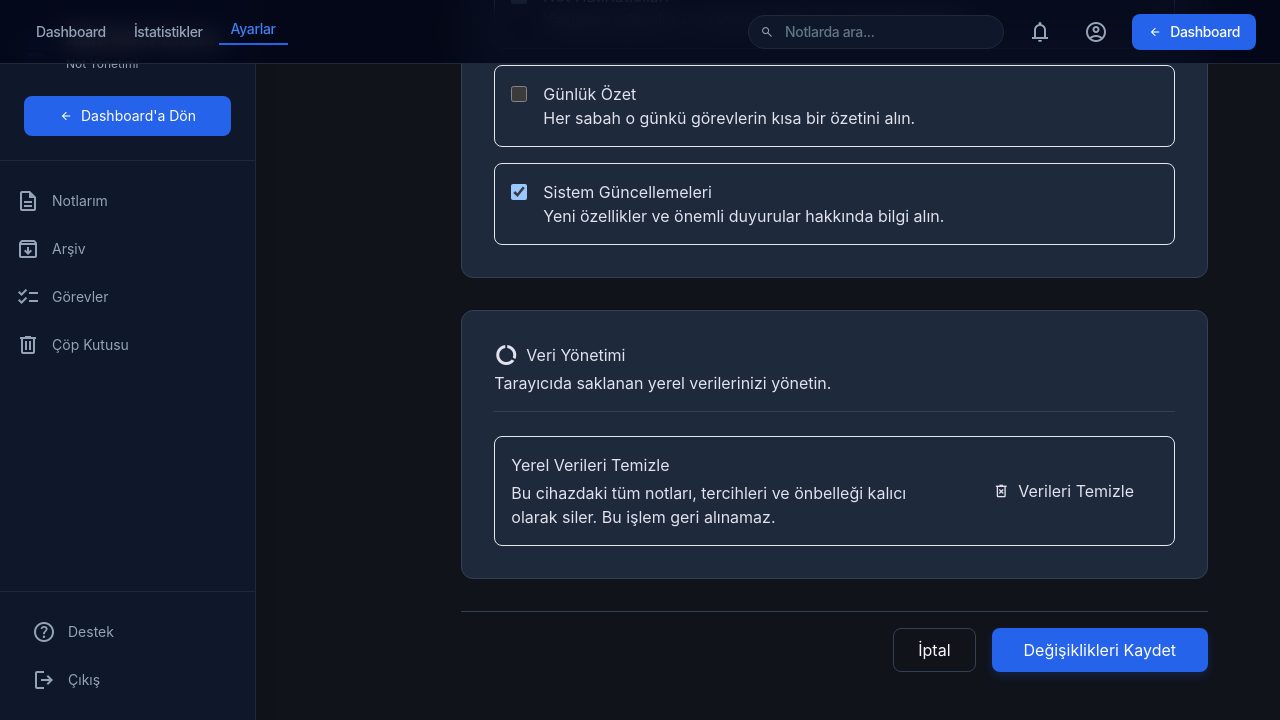
Test: Ayarlar › closes confirmation dialog when İptal clicked
The width and height of the screenshot is (1280, 720).
(page scrolled)
Click the button "Verileri Temizle": coordinates (1063, 491) [968,469,1158,513]
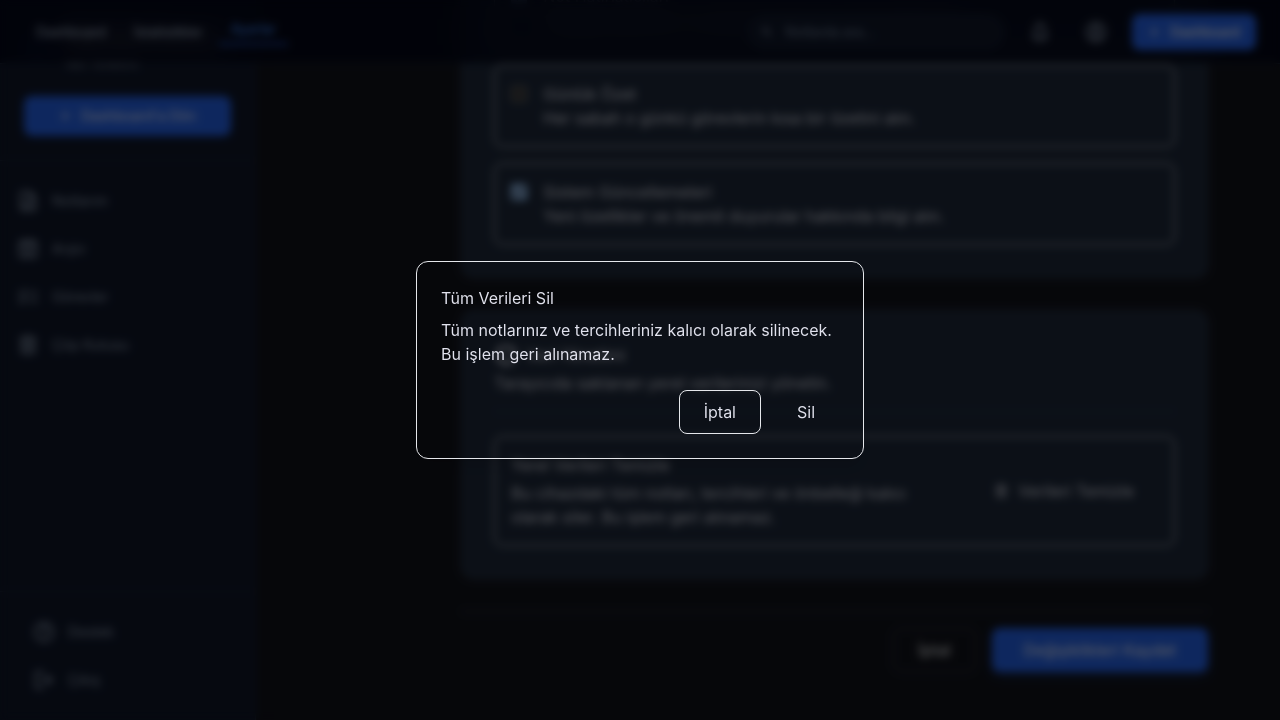
Click the button "İptal": coordinates (720, 412) [679,390,761,434]
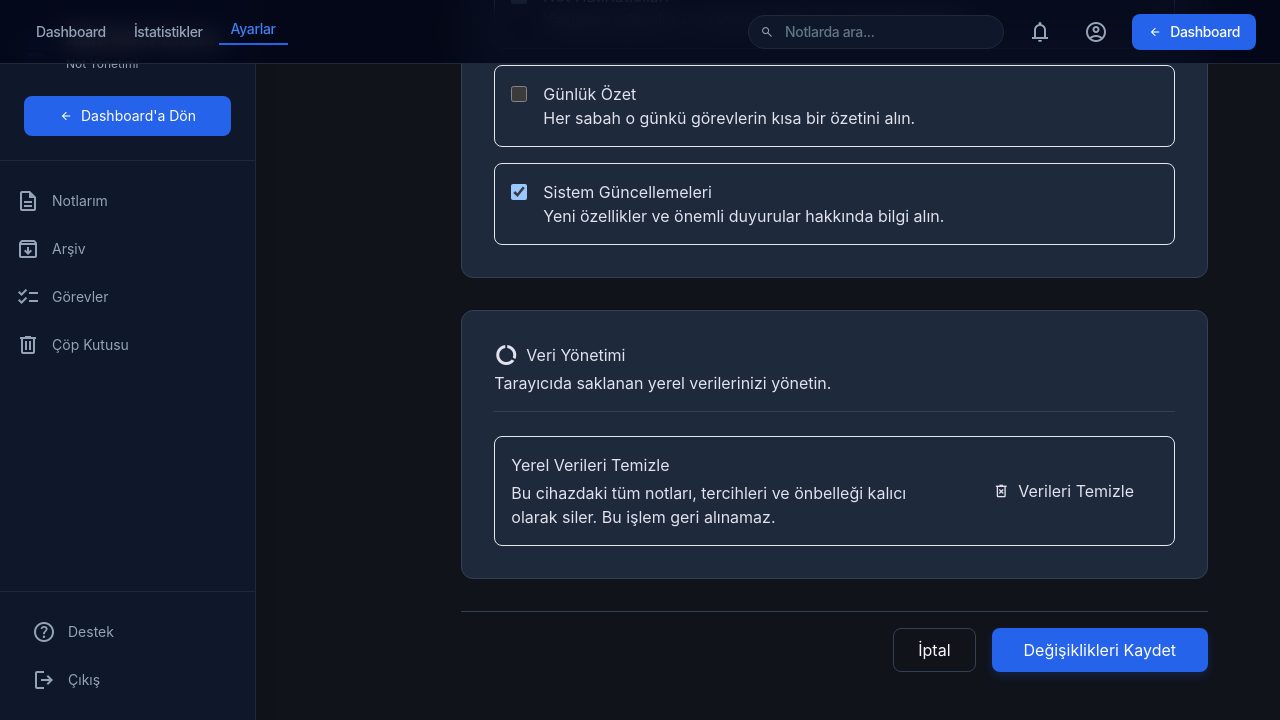
Check: the heading "Tüm Verileri Sil" is gone
